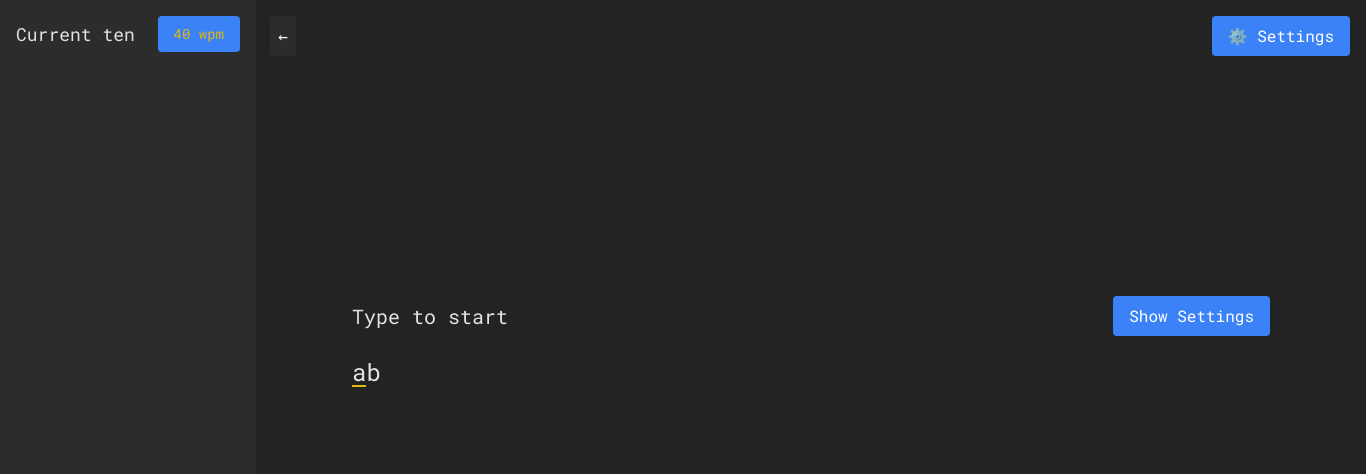
Test: keyboard layout toggle in Settings › Settings panel contains a Show keyboard layout checkbox
Click the button "⚙️ Settings".
click(1281, 36)  # box [1212,16,1350,56]
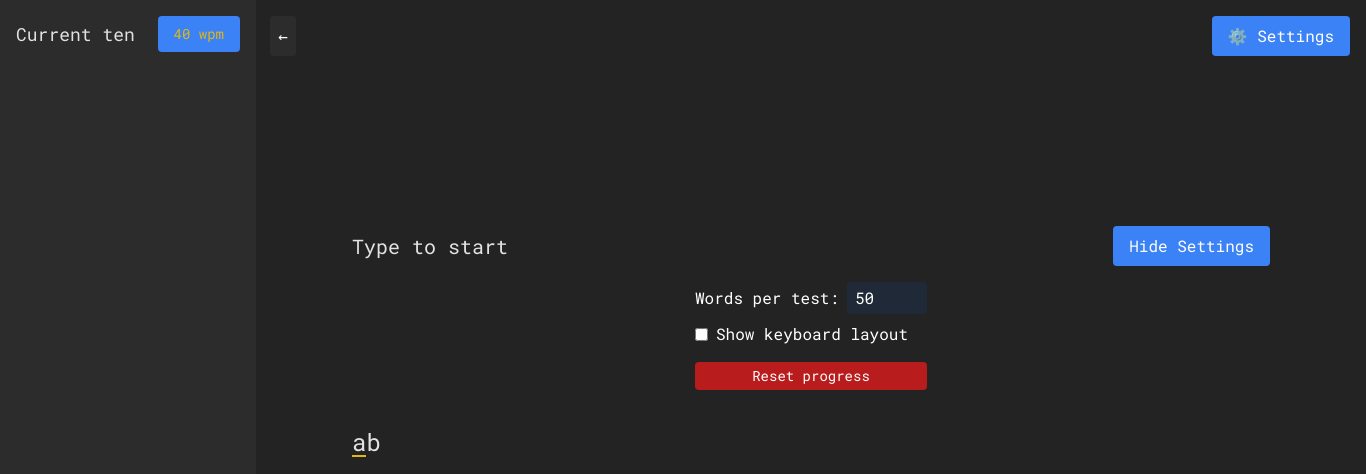
Check: the checkbox with test id "show-keyboard-layout" is shown, box [695,328,708,340]
